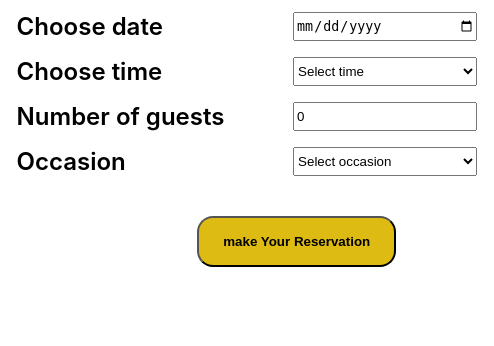
it: Form Validation › should display error if time is not selected
Type "2024-09-30" into the date field labelled "Choose date" at (385, 26), box top-left (293, 12), bottom-right (477, 41)
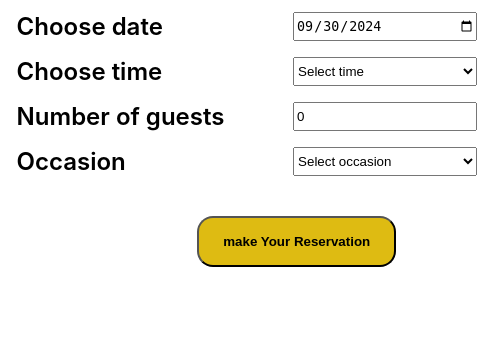
Replace the text in the number field labelled "Number of guests" with "1" at (385, 116), box top-left (293, 102), bottom-right (477, 131)
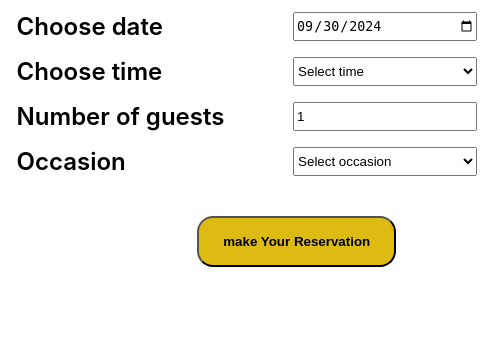
Select "Birthday" in the dropdown labelled "Occasion" at (385, 162), box top-left (293, 147), bottom-right (477, 176)
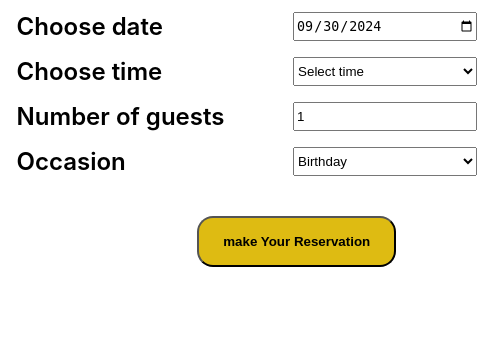
Click the button "make Your Reservation" at (297, 242), box top-left (197, 216), bottom-right (396, 267)
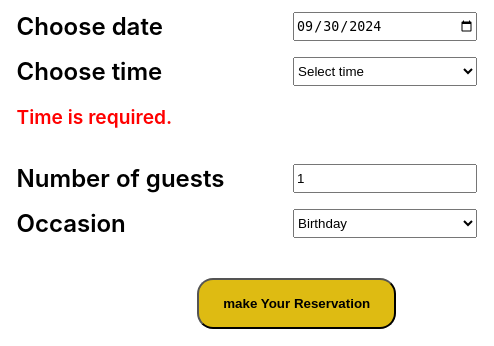
Now the text "Time is required." is shown, box top-left (17, 105), bottom-right (172, 129)
